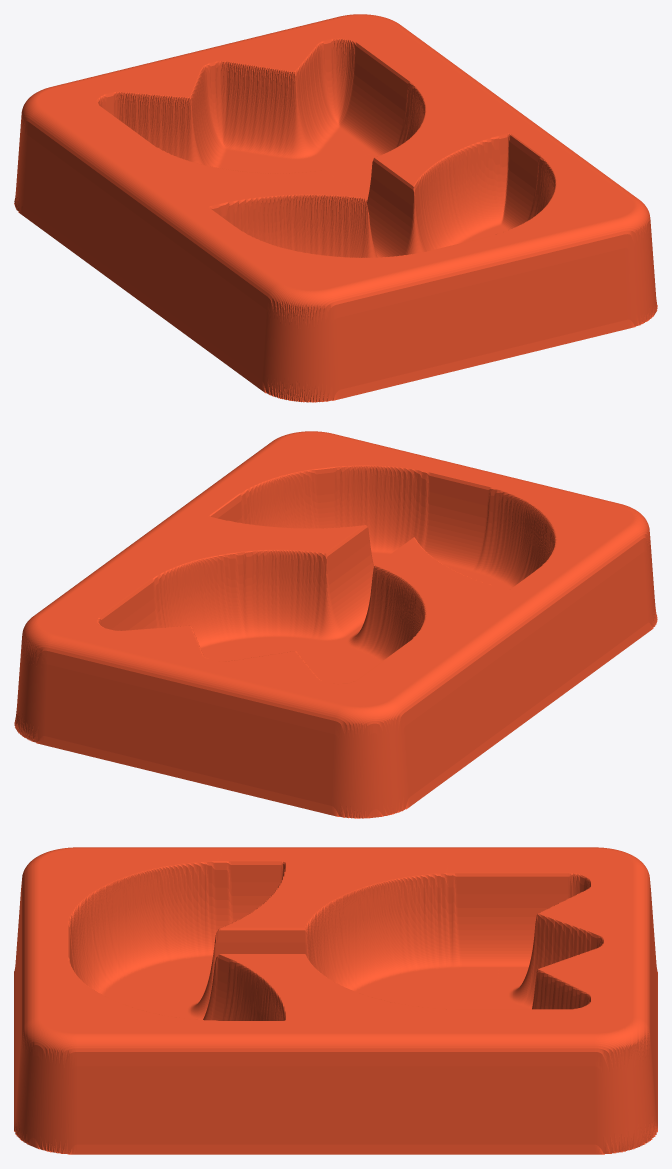
File: mold.glb
3 renders of one model, top to bottom at view 1: azimuth 30°, elevation 25°; view 2: azimuth 150°, elevation 25°; view 3: azimuth 270°, elevation 25°, orthographic. The views are drawn at different scales.
Parts seen in each view (by area): view 1: geometry_0; view 2: geometry_0; view 3: geometry_0.
Boxes of the visible parts, bbox=[...] form: geometry_0: bbox=[14, 14, 657, 402]; geometry_0: bbox=[14, 431, 657, 818]; geometry_0: bbox=[14, 847, 657, 1154].
Bounding box in the file's own units: 0.0698 × 0.0175 × 0.0924.
